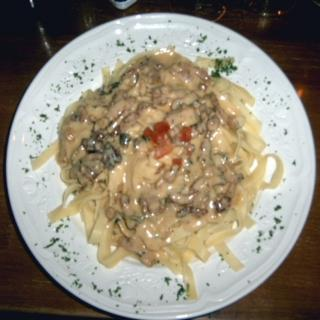Pasta: (31, 52, 281, 300)
